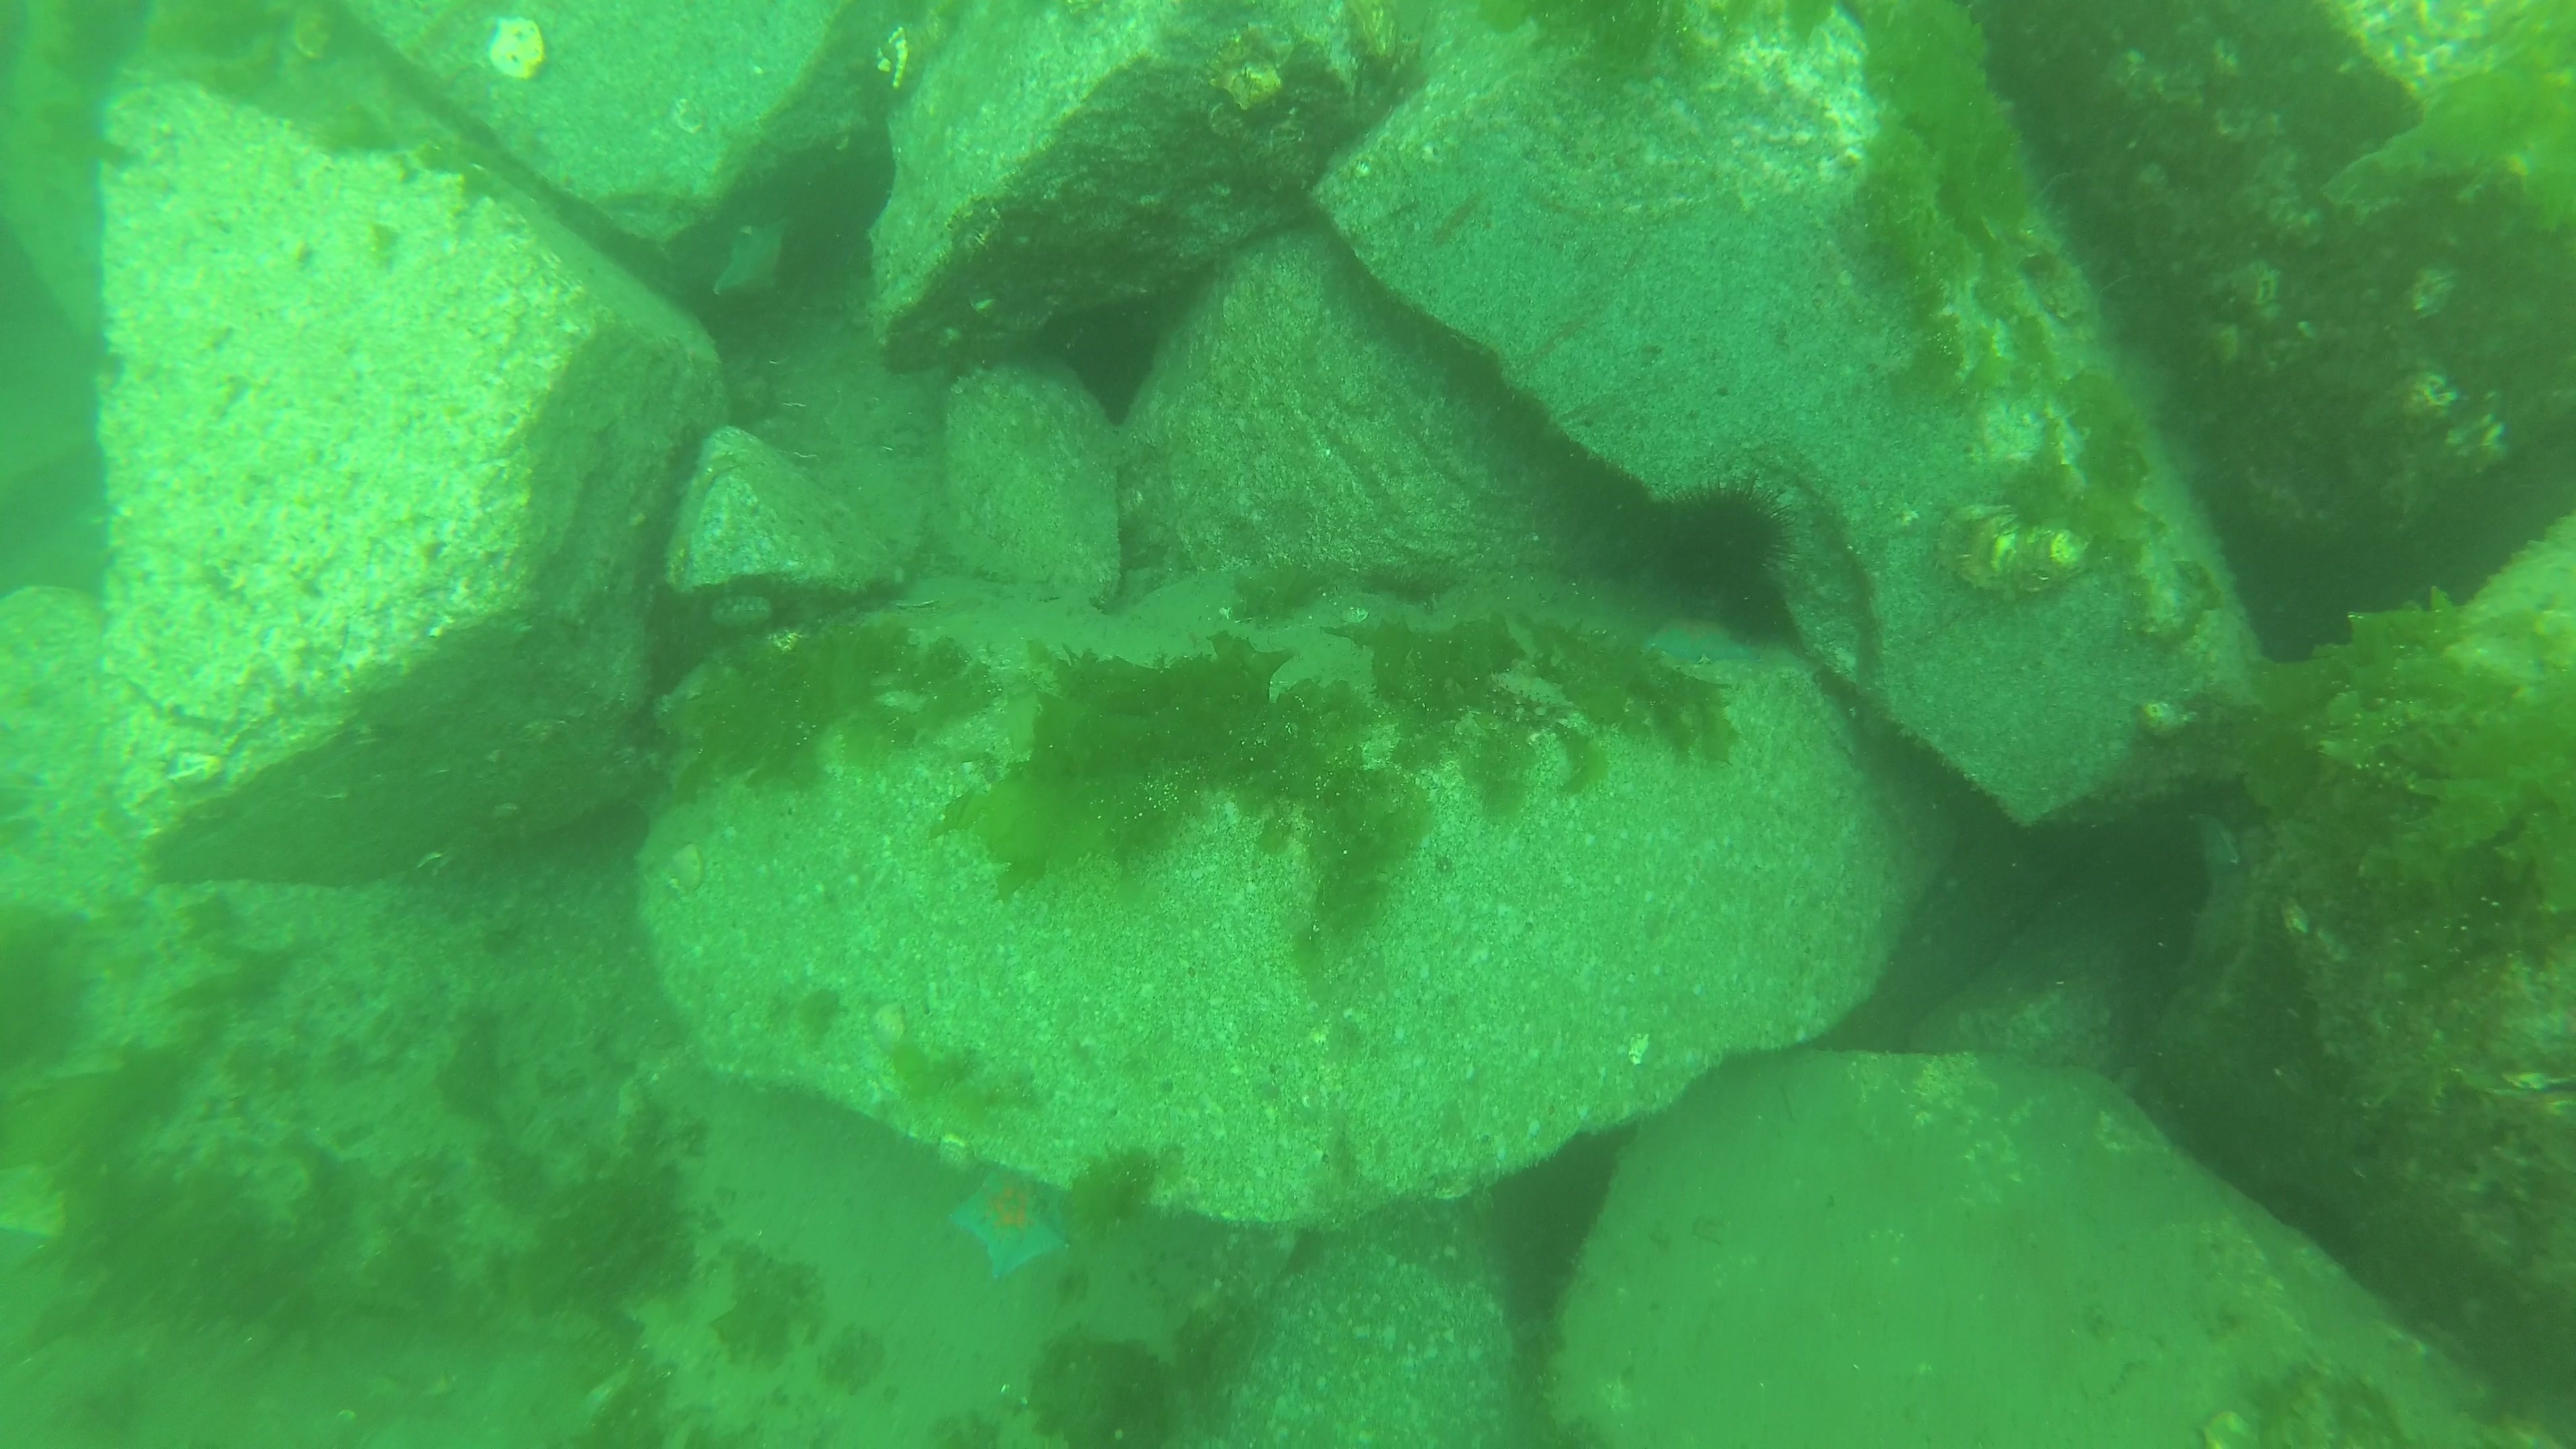echinus: (1629, 485, 1801, 623)
starfish: (941, 1168, 1079, 1281), (709, 216, 791, 304)
